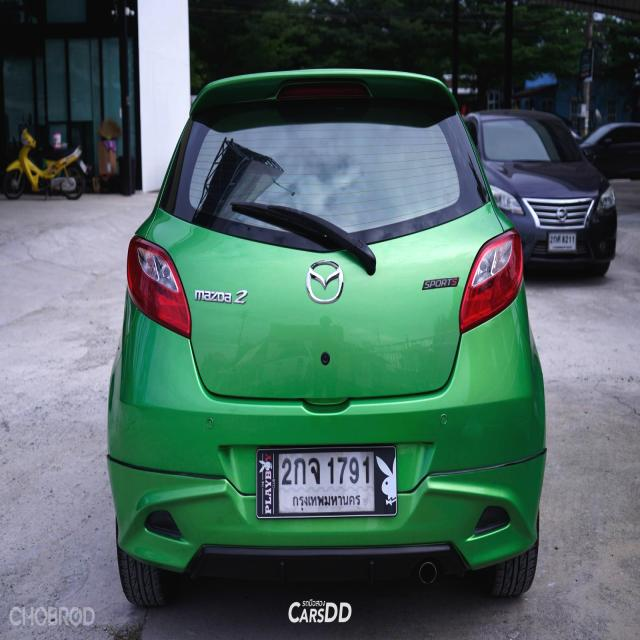license_plate: (252, 447, 401, 520)
